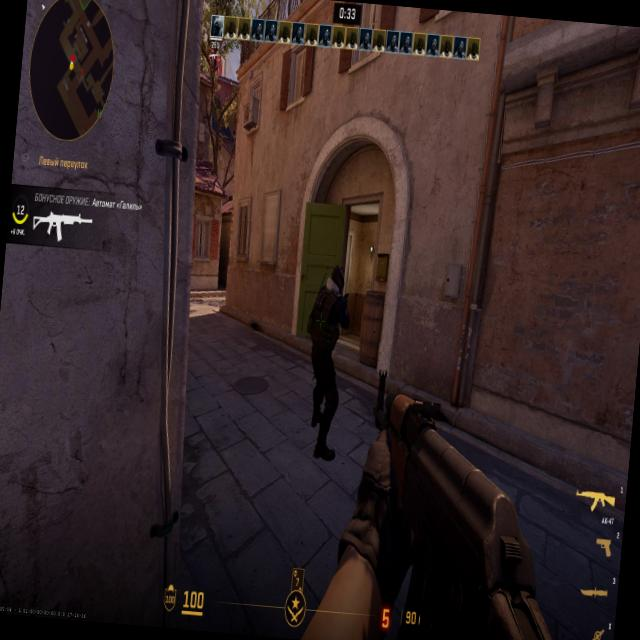CT: (309, 261, 348, 409)
CT_heat: (328, 278, 338, 297)
